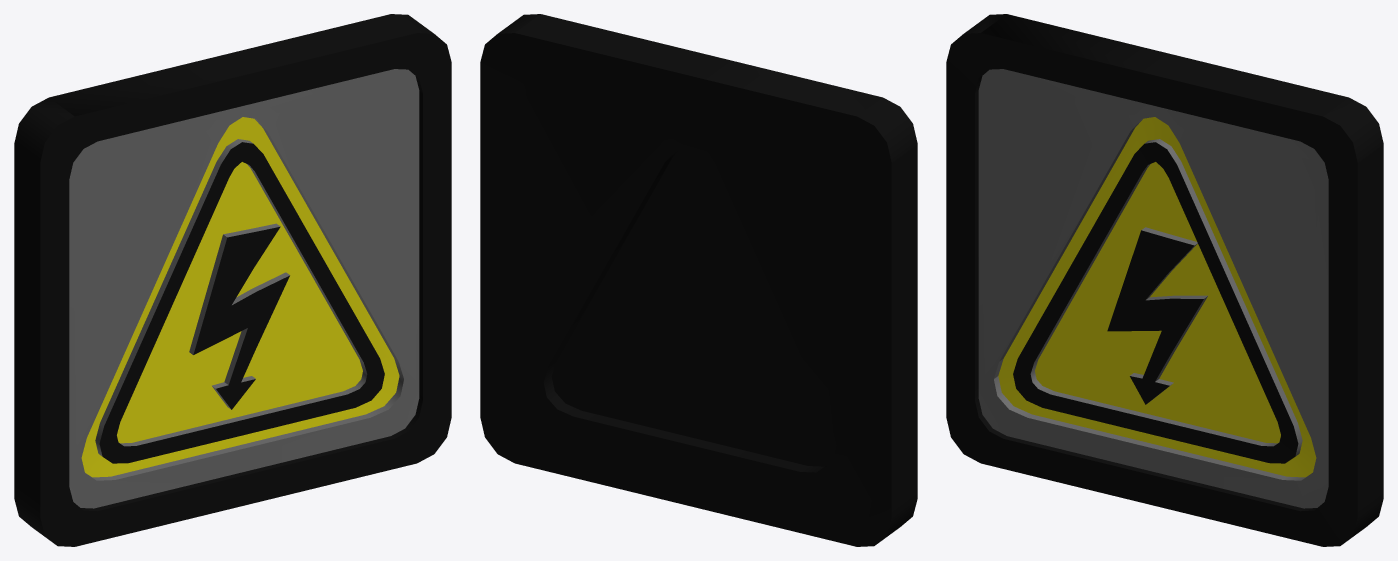
The model's file is Electro_02.fbx.
3 renders of one model, left to right at view 1: azimuth 30°, elevation 25°; view 2: azimuth 150°, elevation 25°; view 3: azimuth 330°, elevation 25°, orthographic.
Parts seen in each view (by area): view 1: Electro_02; view 2: Electro_02; view 3: Electro_02.
Part boxes in pixels (<box>): Electro_02: <box>14,14,451,546</box>; Electro_02: <box>480,14,917,546</box>; Electro_02: <box>946,14,1383,546</box>.
Size of the model in its own units: 155 by 155 by 17.1.
